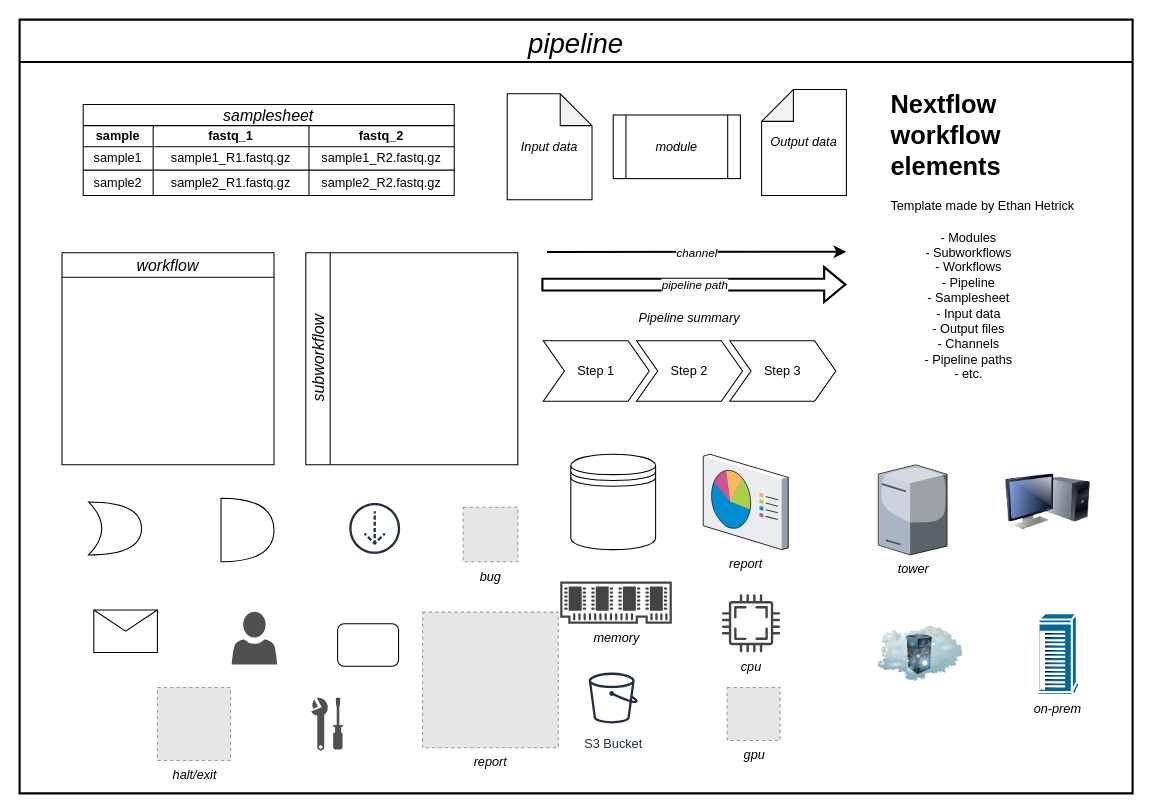
The diagram is 1151 pixels wide and 812 high, and some of its shapes have lost their labels. Grey dashed boxes stand in for pictures. Each missing label, with the centre of its shape:
"and" goes at point (247, 529).
"cloud" goes at point (920, 653).
"download" goes at point (374, 528).
"email" goes at point (125, 630).
"fix" goes at point (326, 723).
"Link" goes at point (368, 644).
"local" goes at point (1047, 501).
"login" goes at point (254, 637).
"or" goes at point (114, 528).
"storage" goes at point (613, 501).
